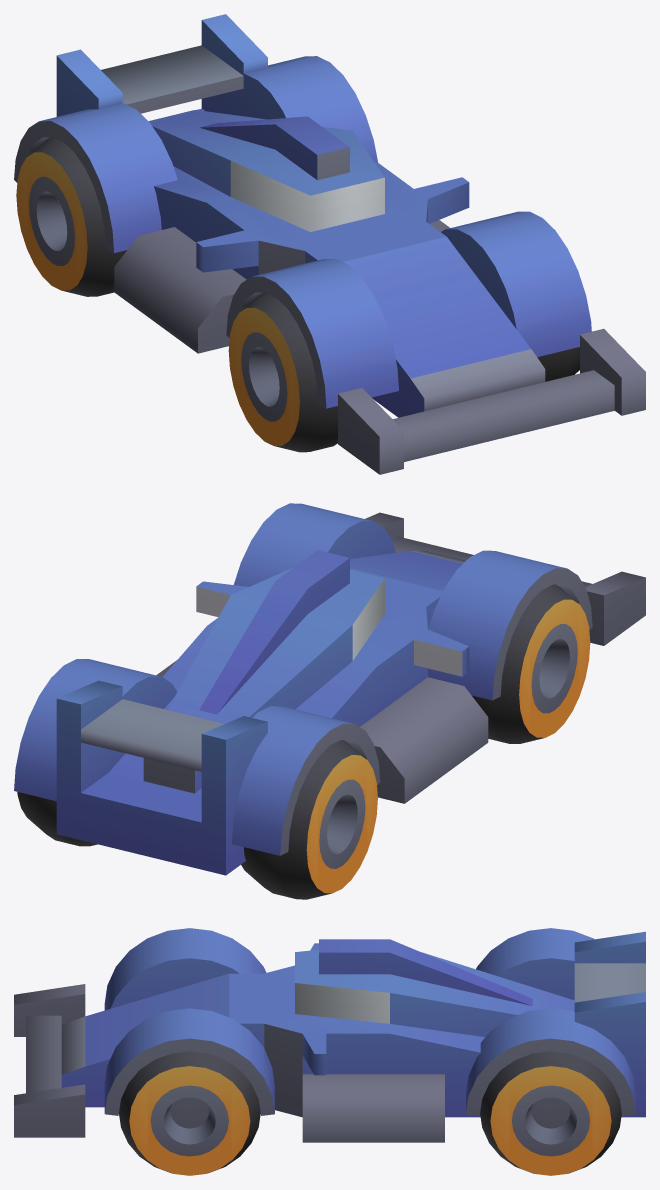
Rendered from k-car-race-future.glb.
3 renders of one model, top to bottom at view 1: azimuth 30°, elevation 25°; view 2: azimuth 150°, elevation 25°; view 3: azimuth 270°, elevation 25°, orthographic. The views are drawn at different scales.
Visible parts, largest first — view 1: body, wheel-front-right, wheel-back-right, wheel-front-left; view 2: body, wheel-back-right, wheel-front-right, wheel-back-left; view 3: body, wheel-front-left, wheel-back-left.
Boxes of the visible parts, x1=… form: body: x1=14, y1=14, x2=645, y2=474; wheel-front-right: x1=228, y1=292, x2=337, y2=452; wheel-back-right: x1=16, y1=137, x2=126, y2=296; wheel-front-left: x1=537, y1=347, x2=579, y2=381; body: x1=14, y1=503, x2=645, y2=875; wheel-back-right: x1=241, y1=740, x2=377, y2=899; wheel-front-right: x1=471, y1=584, x2=590, y2=743; wheel-back-left: x1=17, y1=792, x2=97, y2=846; body: x1=14, y1=928, x2=645, y2=1142; wheel-front-left: x1=119, y1=1051, x2=260, y2=1175; wheel-back-left: x1=480, y1=1051, x2=621, y2=1175.
Size of the model in its own units: 1.2 by 0.8325 by 2.66.
1 material, 1 textured.
